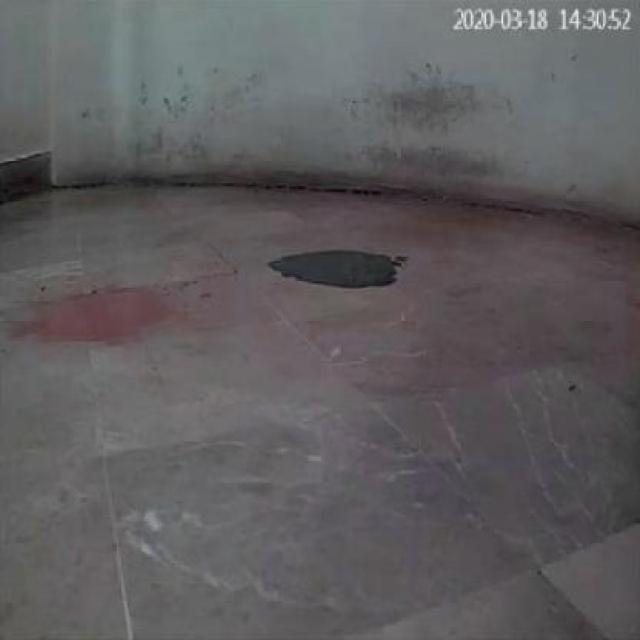spillage: (267, 251, 406, 292)
